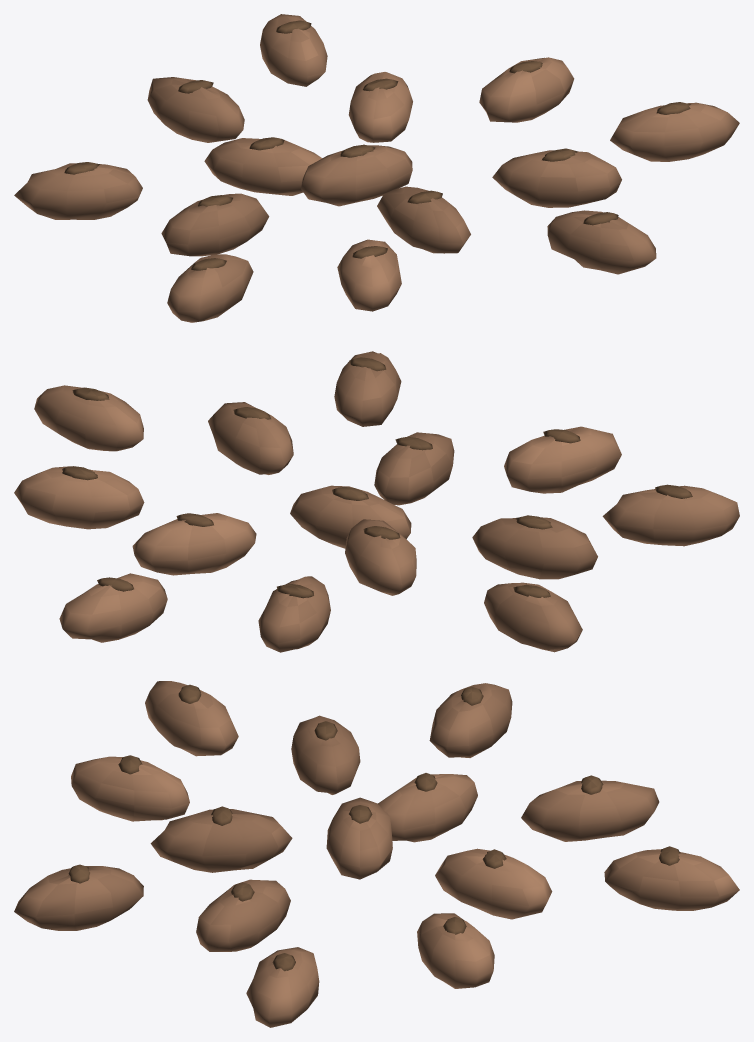
The model's file is PintoBeans.glb.
3 views of the same model, one above another, from view 1: azimuth 30°, elevation 25°; view 2: azimuth 150°, elevation 25°; view 3: azimuth 270°, elevation 25° (orthographic). The views are drawn at different scales.
Visible parts, largest first — view 1: PintoBeans; view 2: PintoBeans; view 3: PintoBeans.
Boxes of the visible parts, left/top/right/bottom form: PintoBeans: left=14, top=14, right=739, bottom=322; PintoBeans: left=14, top=351, right=739, bottom=652; PintoBeans: left=14, top=681, right=739, bottom=1027.
Size of what is drawn, in the model's own units: 0.0653 by 0.00538 by 0.0615.
